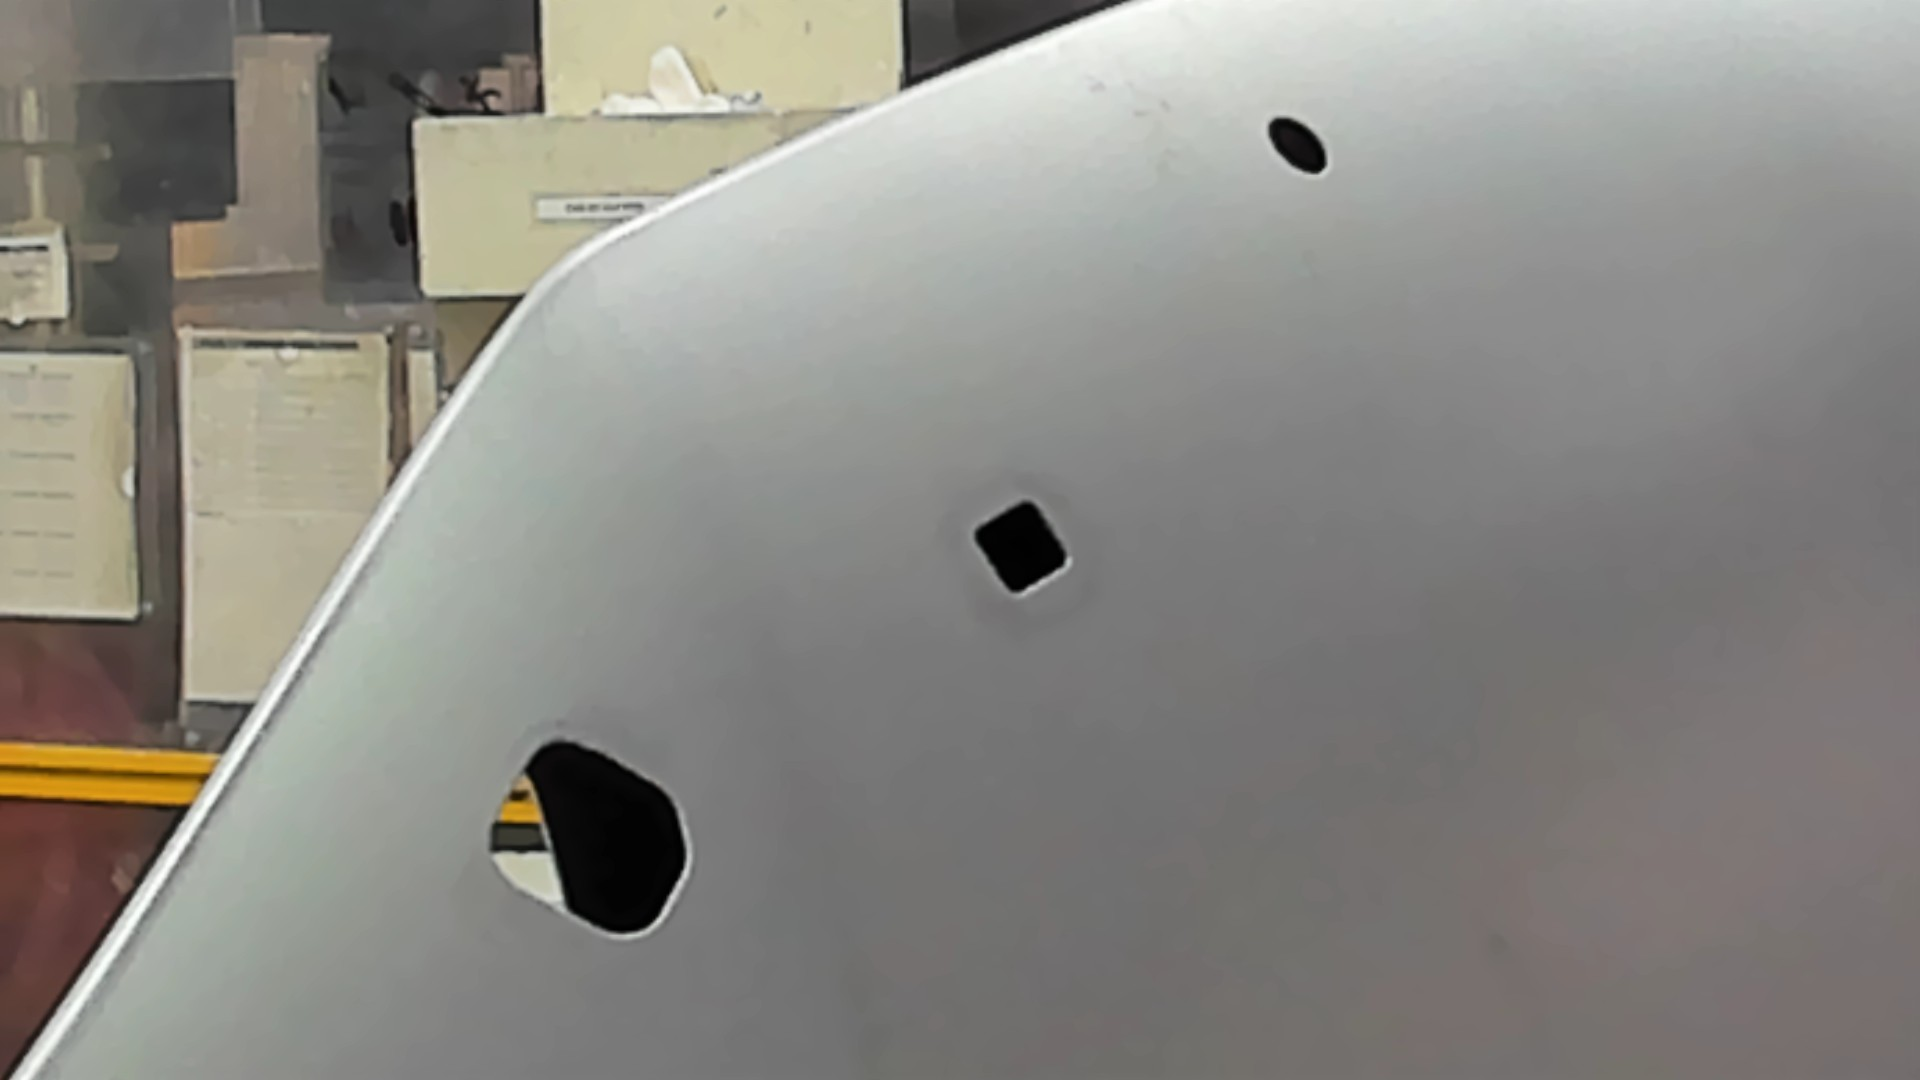chico: (1265, 109, 1331, 178)
grande: (477, 733, 702, 945)
mediano: (965, 495, 1073, 603)
